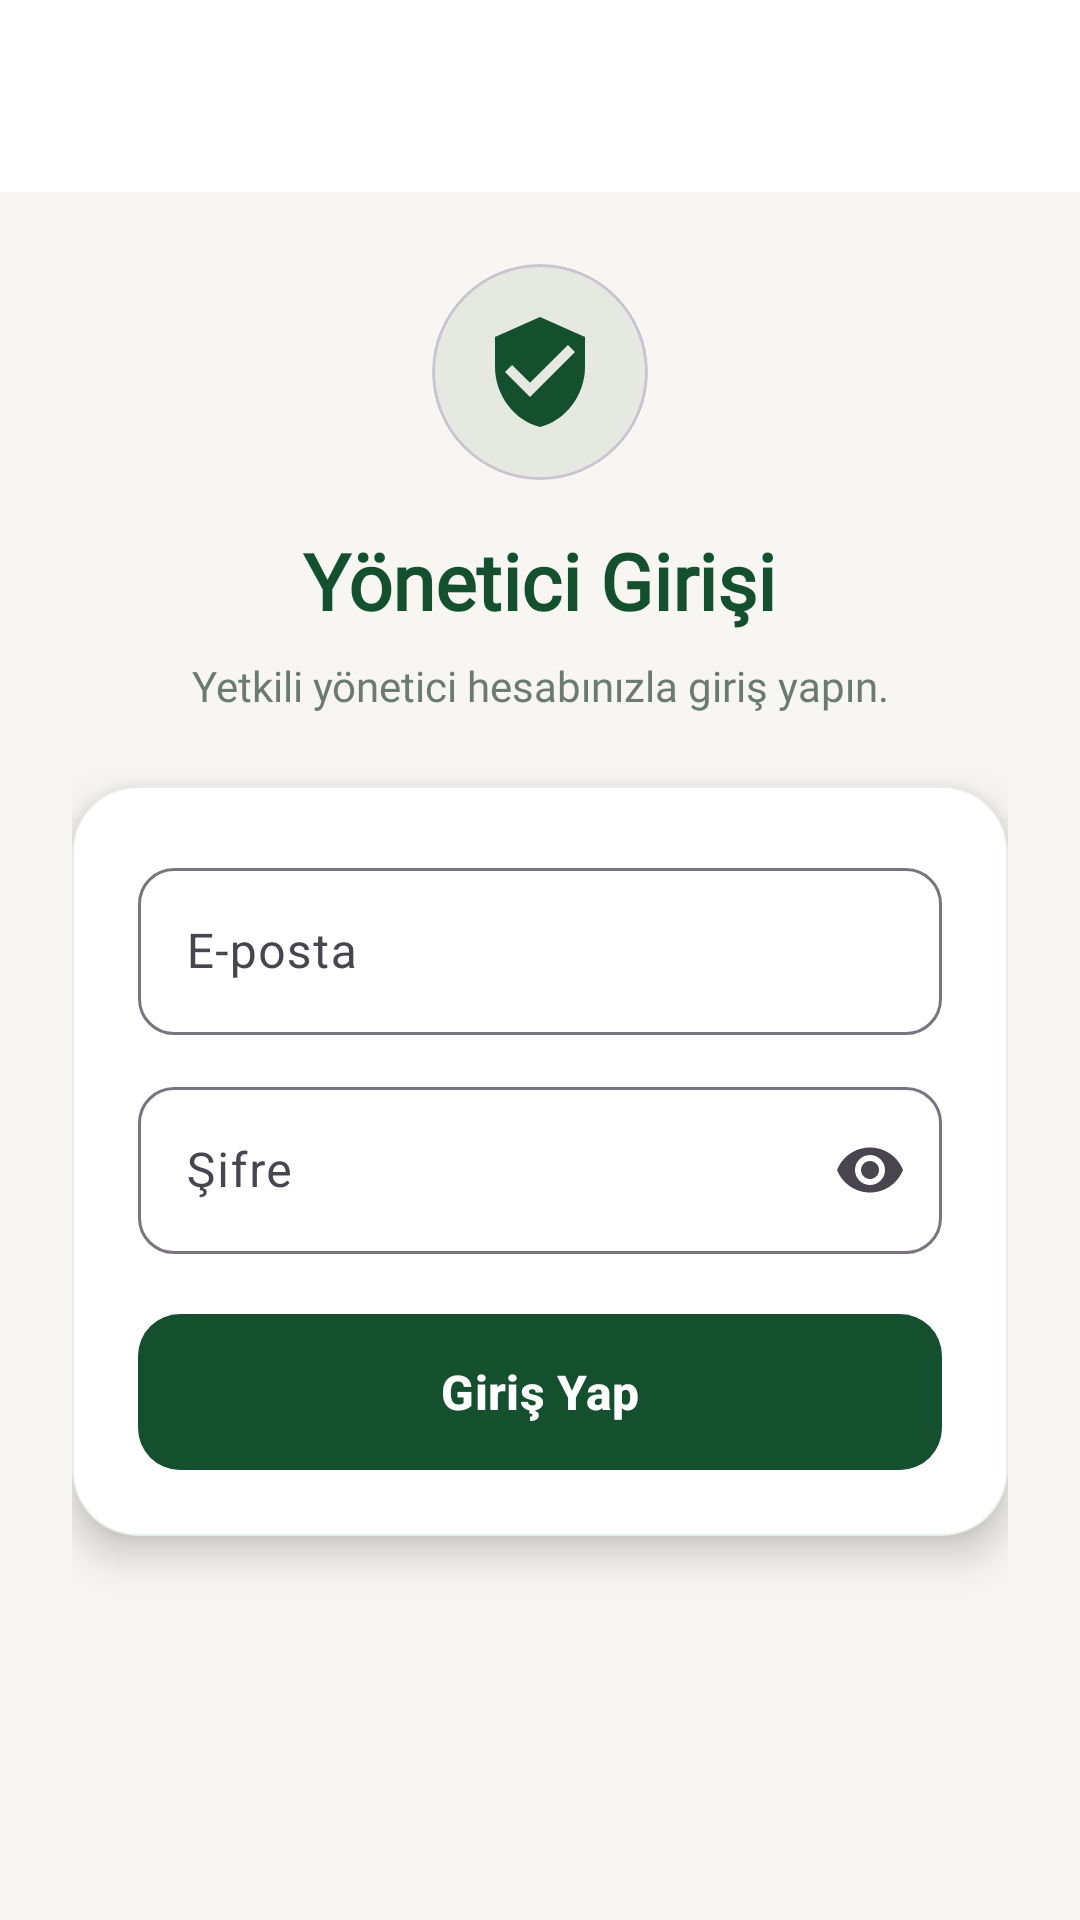

Icons on this 1080px x 1920px Android screen, each with its box as [left=x1, top=y1, right=x2, bottom=y2]:
admin badge: [left=495, top=317, right=585, bottom=427]
